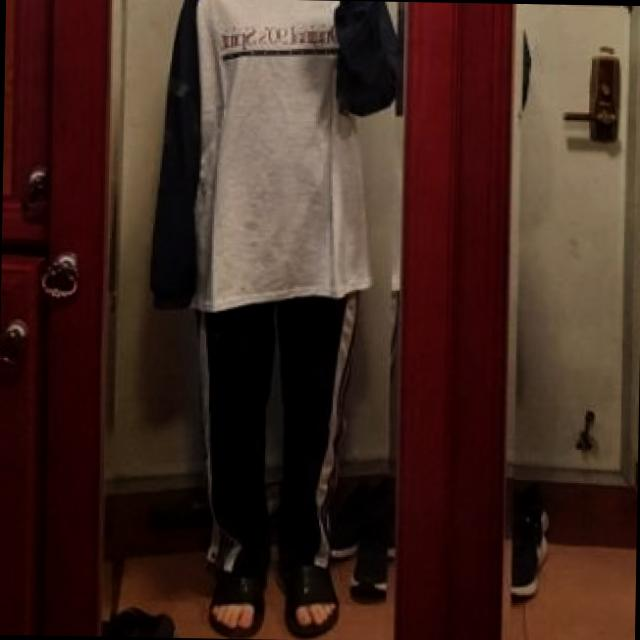longsleeve: (151, 0, 404, 311)
trainingpants: (192, 290, 358, 574)
